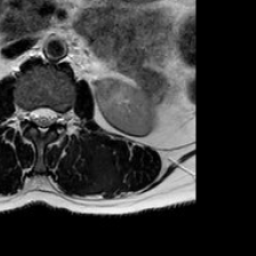CCS_normal: (38, 96, 47, 144)
LFS_normal: (56, 100, 66, 132)
LLS_normal: (47, 97, 56, 133)
RFS_normal: (19, 96, 28, 130)
RLS_normal: (28, 97, 38, 134)
